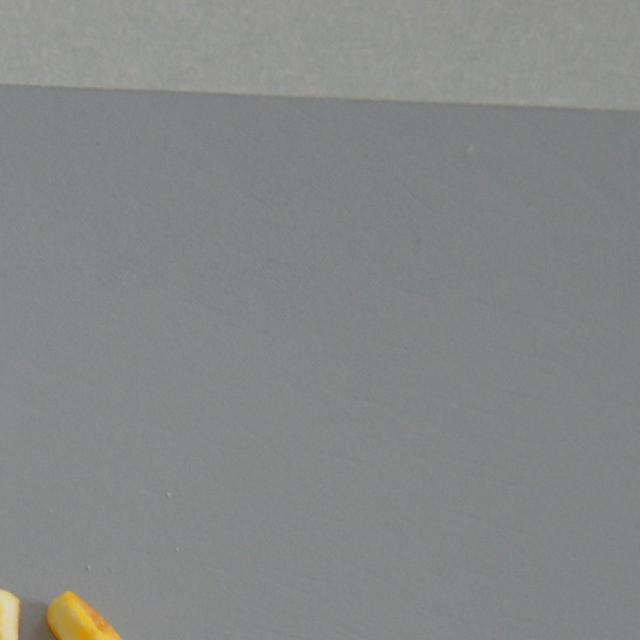dañado: (41, 584, 134, 640), (0, 580, 30, 640)
